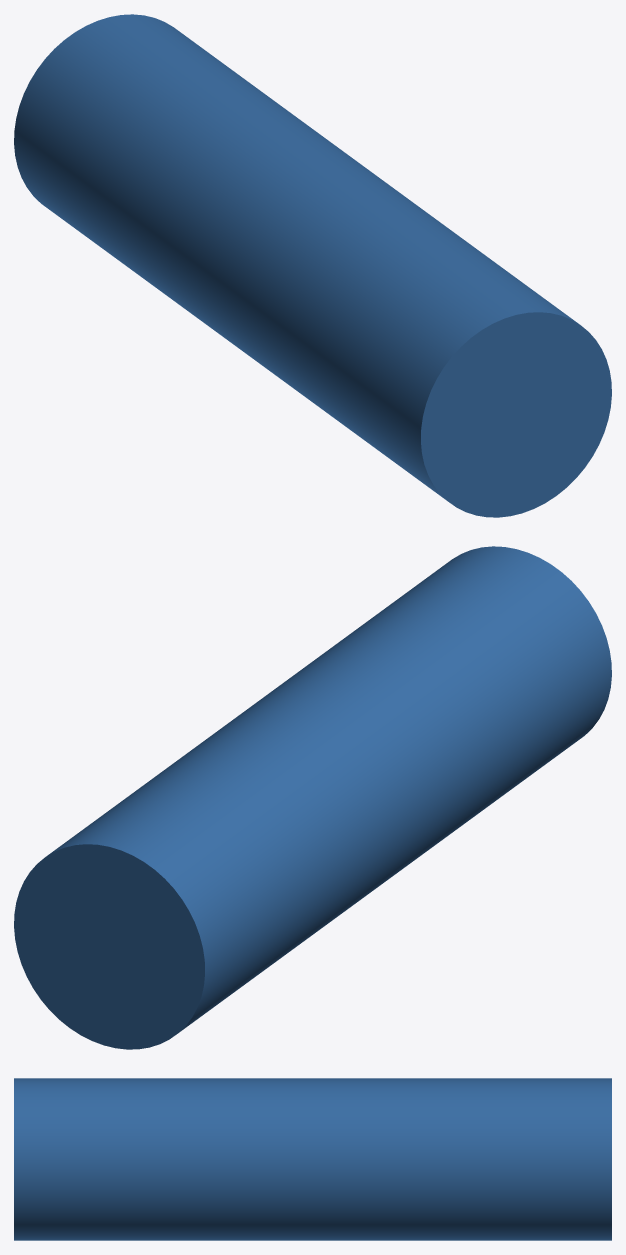
File: fitted-cell-in-bt2.glb
3 views of the same model, one above another, from view 1: azimuth 30°, elevation 25°; view 2: azimuth 150°, elevation 25°; view 3: azimuth 270°, elevation 25° (orthographic). The views are drawn at different scales.
Visible parts, largest first — view 1: cell in BT2 cell; view 2: cell in BT2 cell; view 3: cell in BT2 cell.
Boxes of the visible parts, bbox=[...] form: cell in BT2 cell: bbox=[14, 14, 611, 517]; cell in BT2 cell: bbox=[14, 546, 611, 1049]; cell in BT2 cell: bbox=[14, 1078, 611, 1240].
Bounding box in the file's own units: 0.019 × 0.019 × 0.07.
